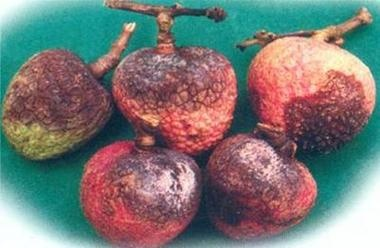Anthracnose: (298, 68, 371, 162), (26, 46, 96, 128), (135, 38, 221, 103), (245, 131, 319, 204), (118, 154, 192, 207)
